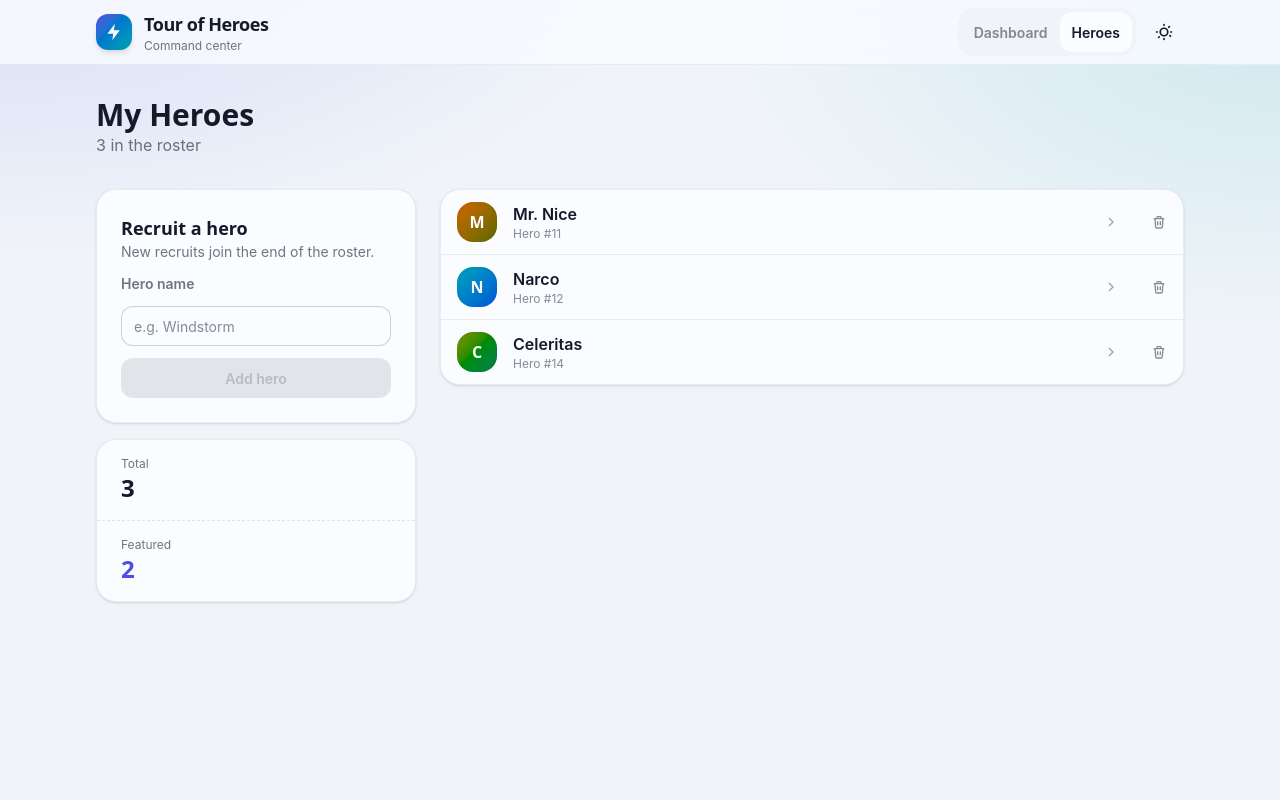
Scenario: Tour of Heroes › adds, opens, renames, and deletes heroes
Check: the heading "My Heroes" is shown, box top-left (96, 94), bottom-right (254, 135)
In the field labelled "Hero name": [256, 326] box top-left (121, 306), bottom-right (391, 346), type "Windstorm"
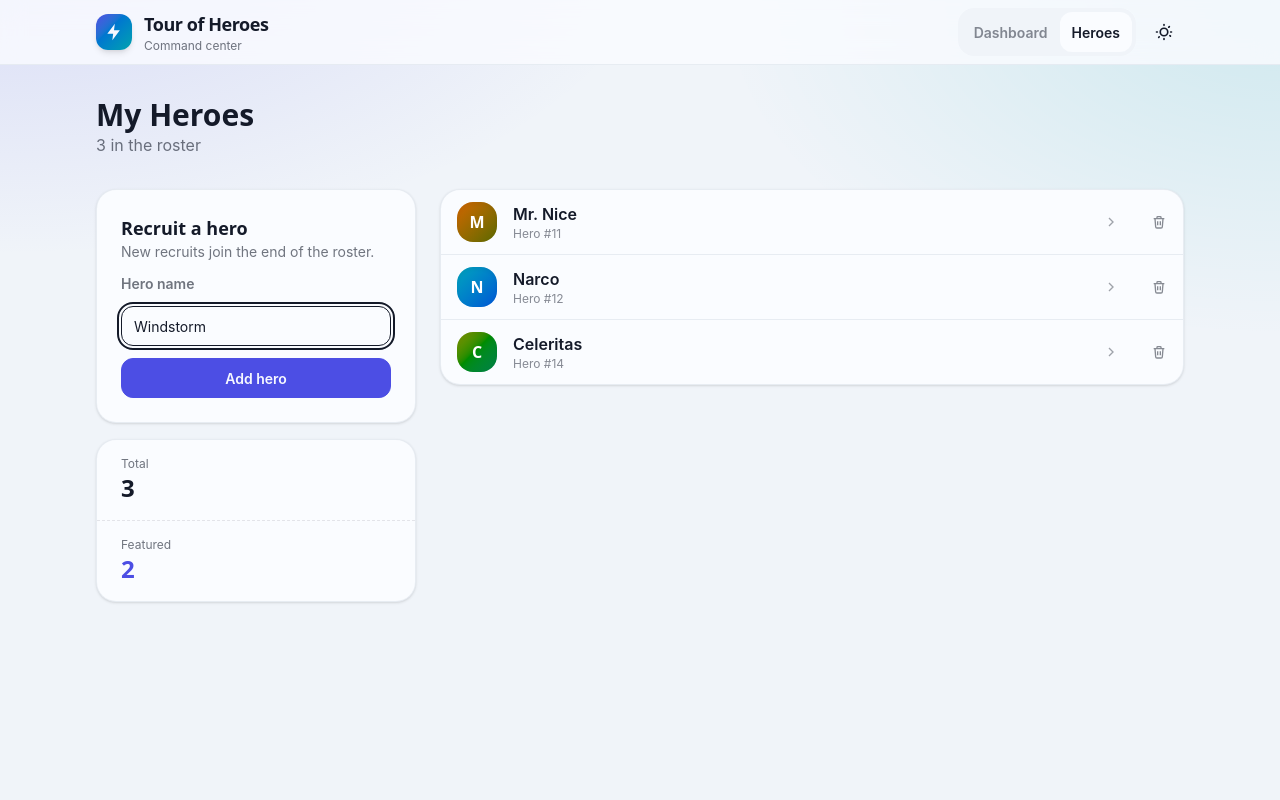
Click the button "Add hero": [256, 378] box top-left (121, 358), bottom-right (391, 398)
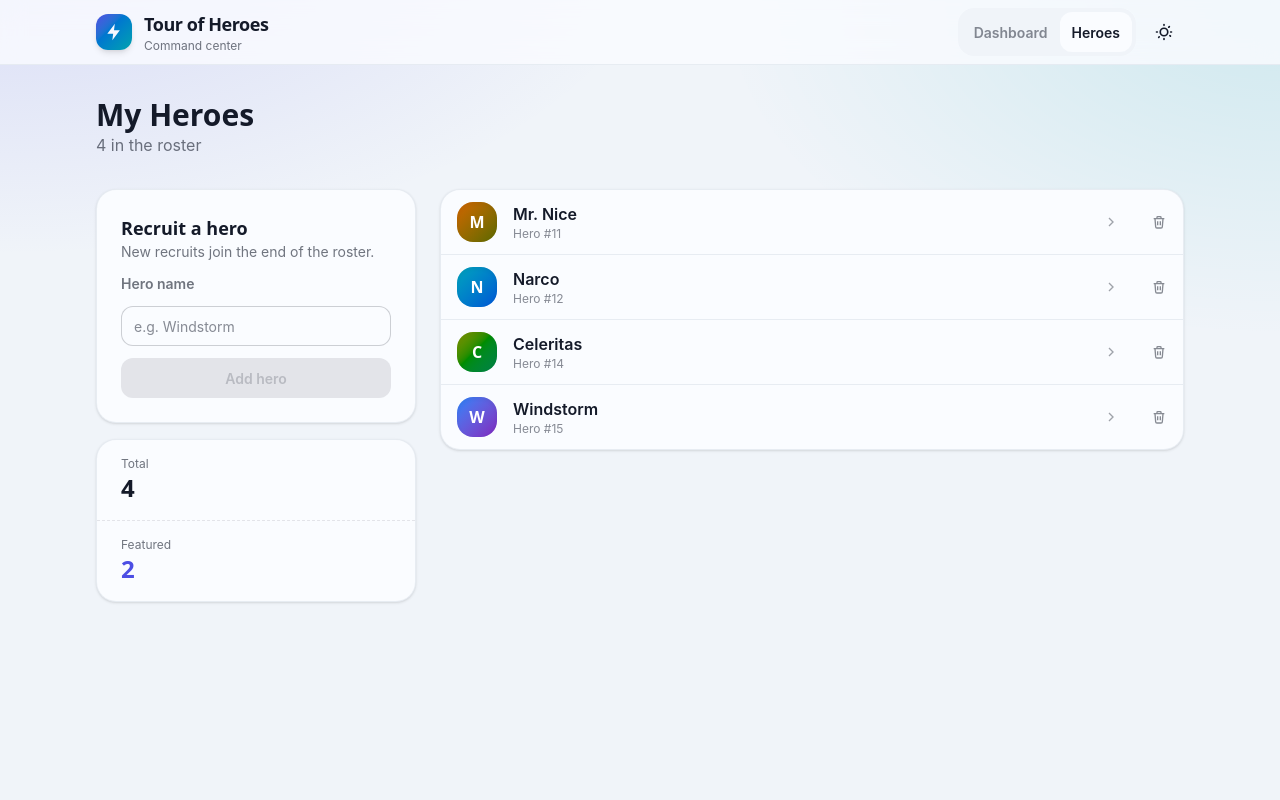
Check: the text "Windstorm" is shown, box top-left (513, 399), bottom-right (598, 419)
Check: the text "15" is shown, box top-left (551, 421), bottom-right (563, 436)
Click the text "Narco": [536, 279] box top-left (513, 269), bottom-right (559, 289)
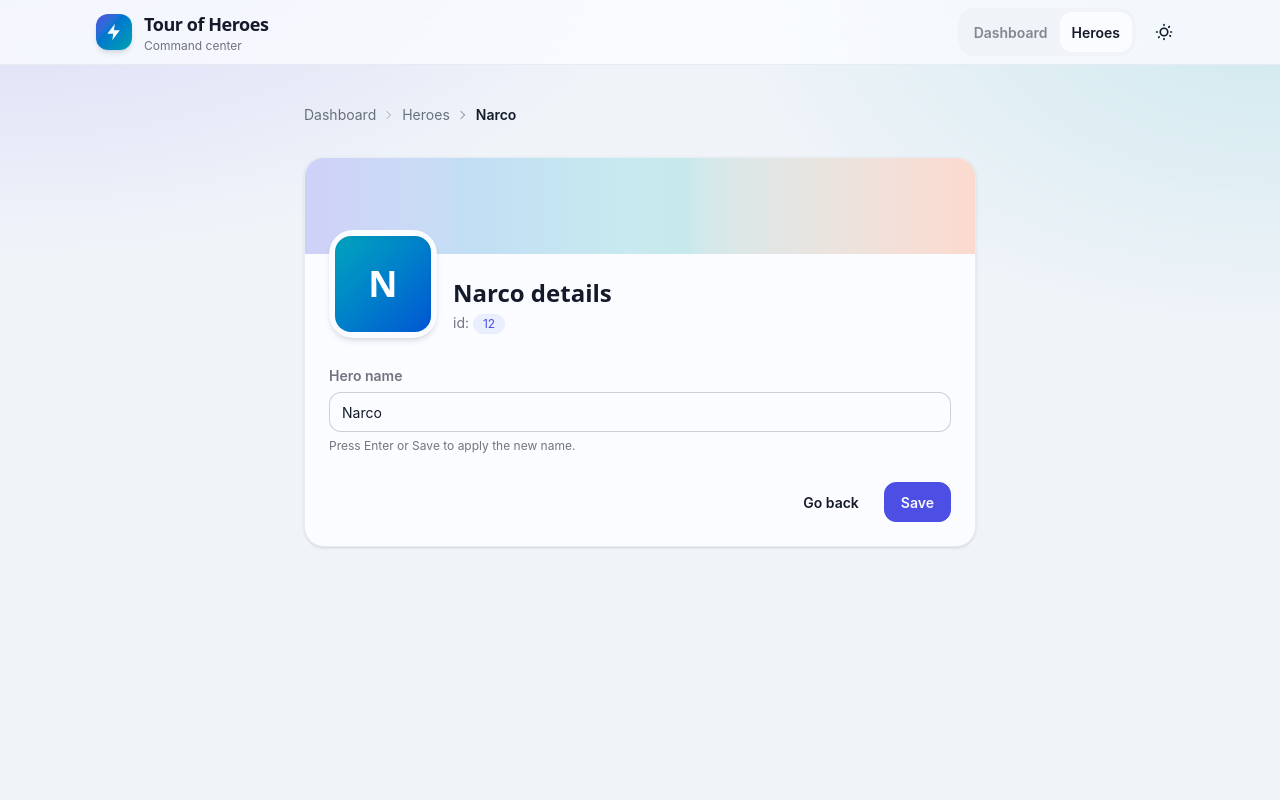
Check: the heading "Narco details" is shown, box top-left (453, 277), bottom-right (612, 309)
Replace the text in the field labelled "Hero name" with "Magneta": [640, 412] box top-left (329, 392), bottom-right (951, 432)
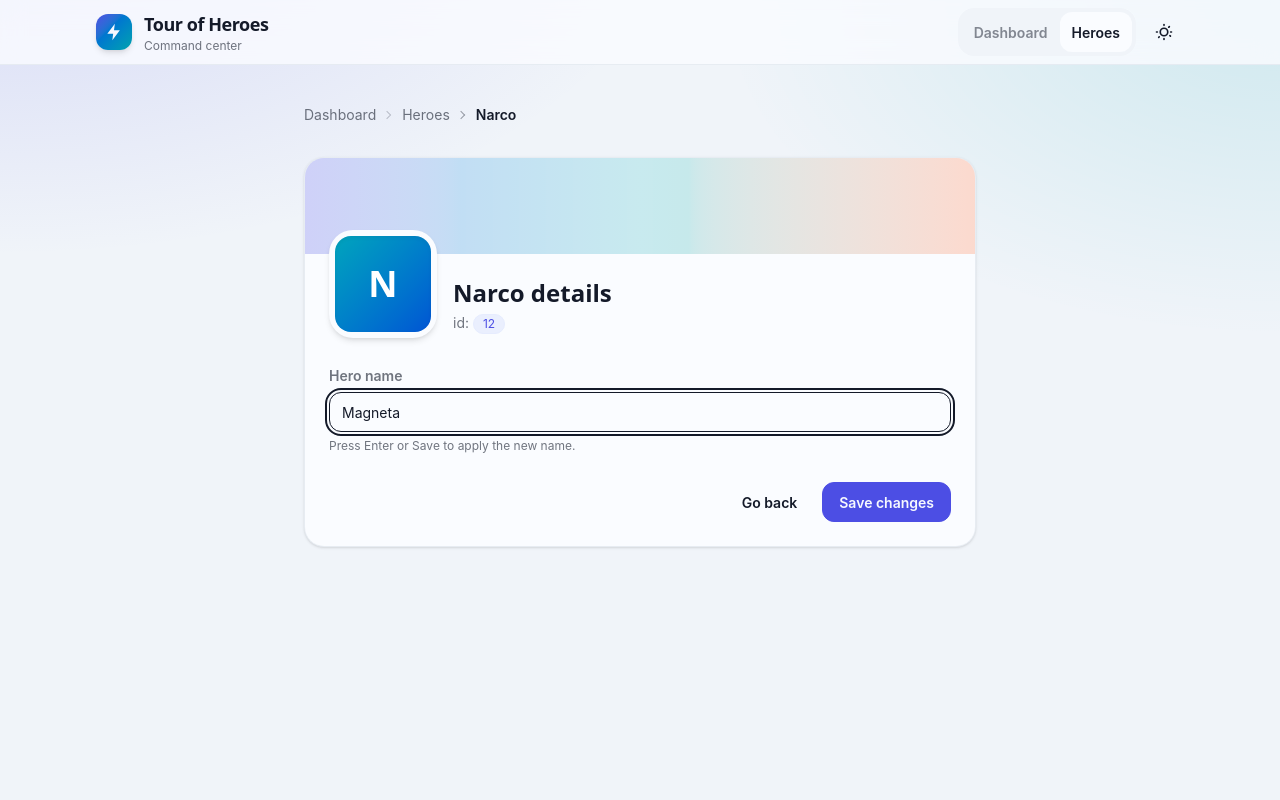
Click the button "Save changes": [887, 502] box top-left (822, 482), bottom-right (951, 522)
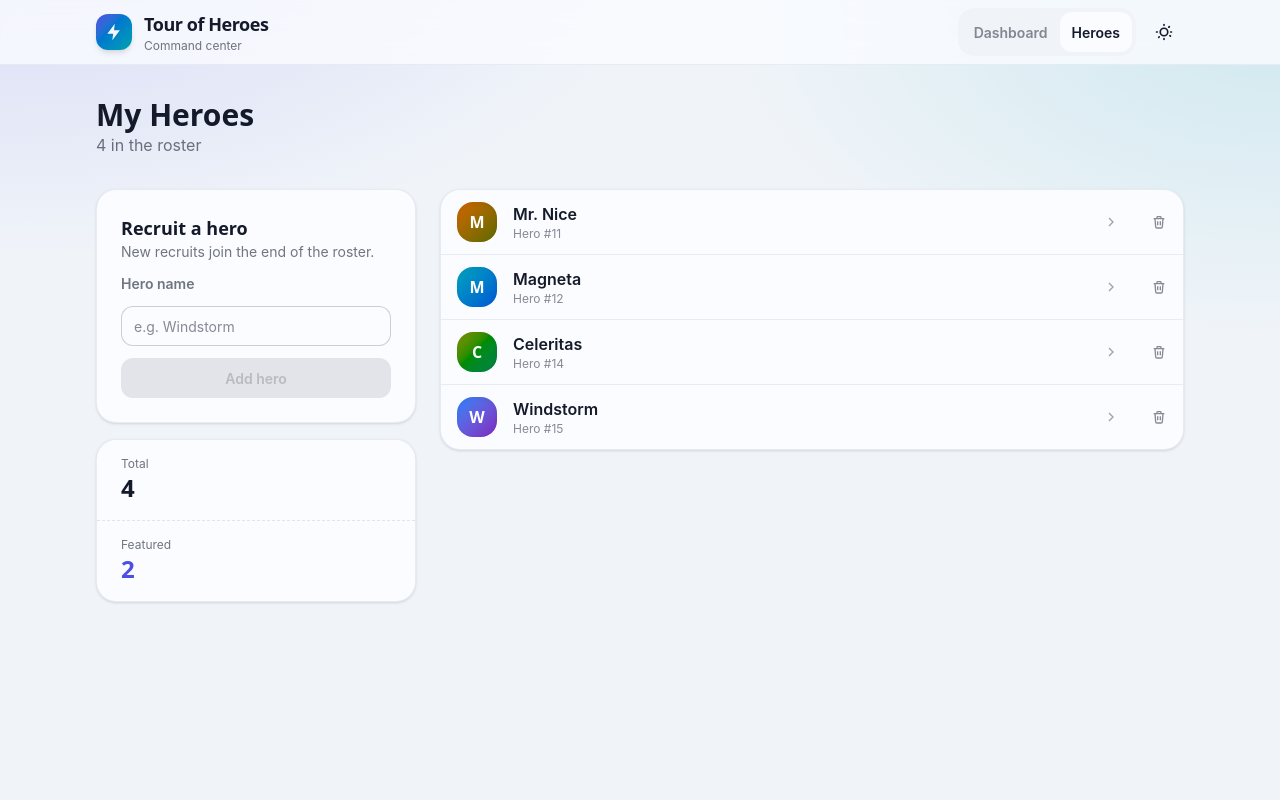
Check: the heading "My Heroes" is shown, box top-left (96, 94), bottom-right (254, 135)
Check: the text "Magneta" is shown, box top-left (513, 269), bottom-right (581, 289)
Check: the list item "Narco" is gone
Click the button named "Delete Mr. Nice": [1159, 222] box top-left (1143, 206), bottom-right (1175, 238)
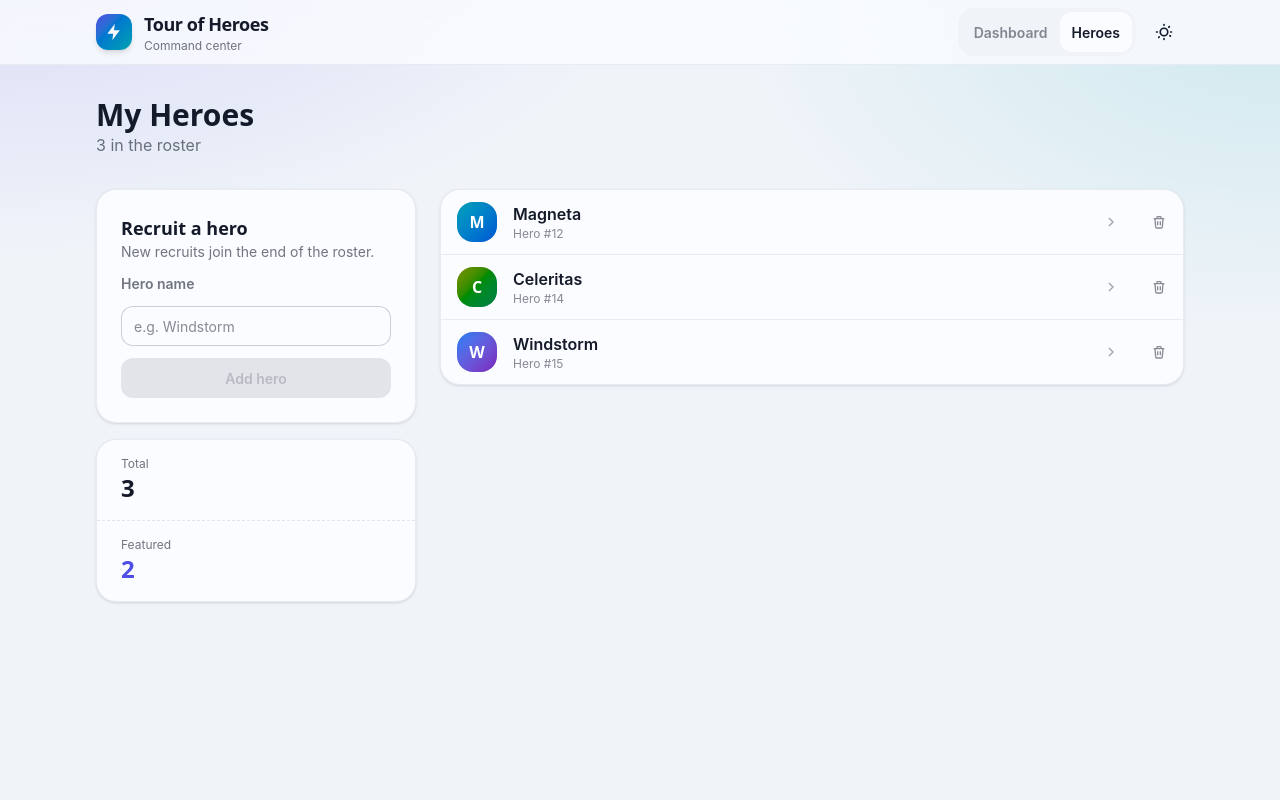
Check: the button "Mr. Nice" is gone
